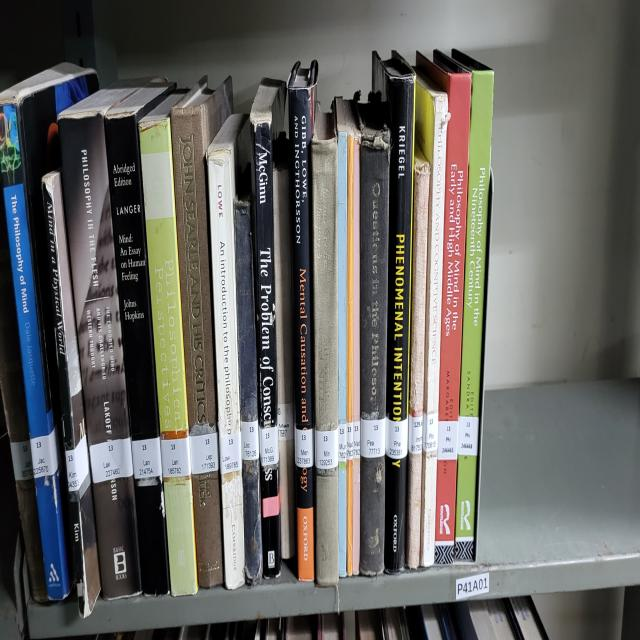Book: (0, 65, 99, 601), (60, 87, 140, 598), (105, 81, 175, 593), (171, 76, 232, 587), (140, 92, 198, 595), (416, 51, 471, 563), (42, 170, 100, 617), (450, 49, 494, 560), (372, 51, 415, 571), (206, 114, 250, 590), (0, 187, 48, 603), (412, 70, 450, 565), (250, 78, 286, 576), (288, 62, 318, 582), (360, 124, 390, 576), (311, 106, 339, 587), (234, 195, 262, 584), (406, 146, 430, 568), (274, 141, 296, 560), (344, 100, 360, 576), (334, 97, 348, 576)
Label: (90, 438, 134, 482), (30, 427, 59, 479), (65, 436, 89, 492), (161, 436, 191, 479), (131, 438, 162, 479), (190, 433, 219, 473), (385, 417, 408, 460), (10, 441, 34, 482), (315, 427, 339, 468), (360, 419, 385, 457), (219, 433, 241, 473), (438, 419, 459, 460), (458, 417, 479, 457), (259, 425, 279, 465), (295, 427, 314, 468), (241, 419, 259, 460), (422, 414, 439, 452), (278, 403, 294, 441), (409, 414, 422, 455), (339, 422, 348, 463), (352, 419, 360, 460), (346, 422, 354, 460)
